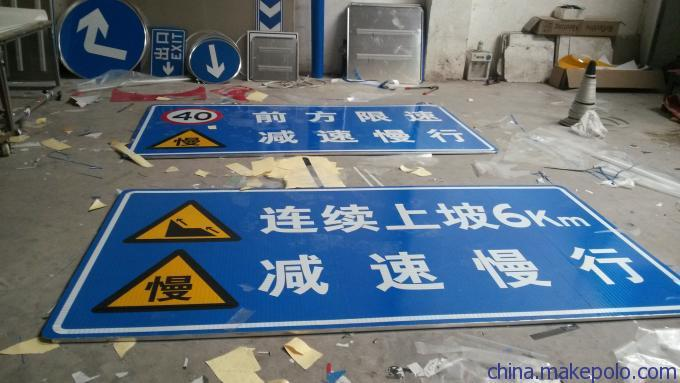sign: (119, 191, 644, 305), (150, 105, 475, 149)
